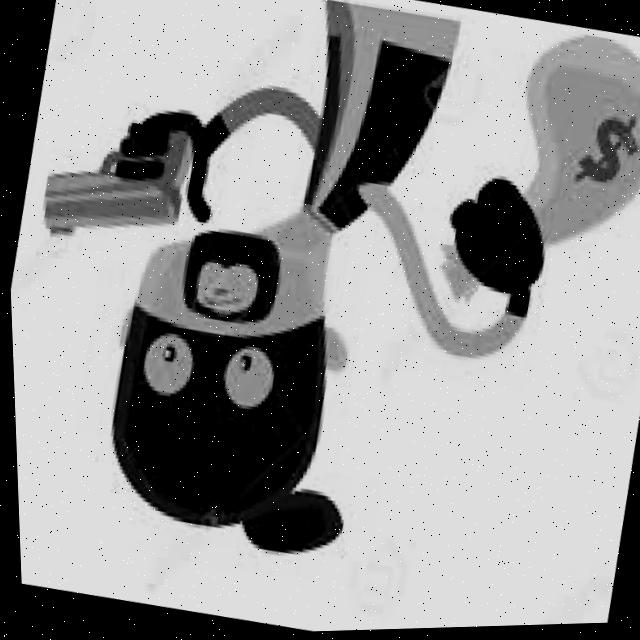pistol: (35, 137, 192, 264)
